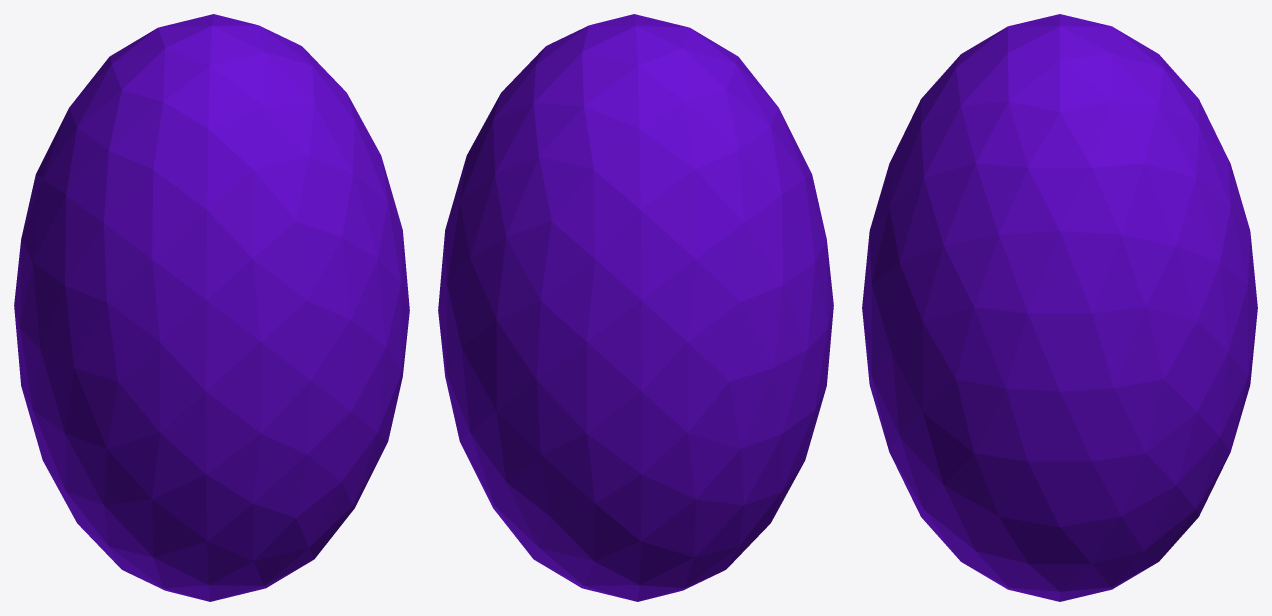
The model's file is luxury_182.glb.
3 views of the same model, side by side, from view 1: azimuth 30°, elevation 25°; view 2: azimuth 150°, elevation 25°; view 3: azimuth 270°, elevation 25° (orthographic).
Visible parts, largest first — view 1: world; view 2: world; view 3: world.
Part boxes in pixels (x1=…): world: x1=14, y1=14, x2=409, y2=601; world: x1=438, y1=14, x2=833, y2=601; world: x1=862, y1=14, x2=1257, y2=601.
Bounding box in the file's own units: 1.05 × 1.65 × 1.05.
